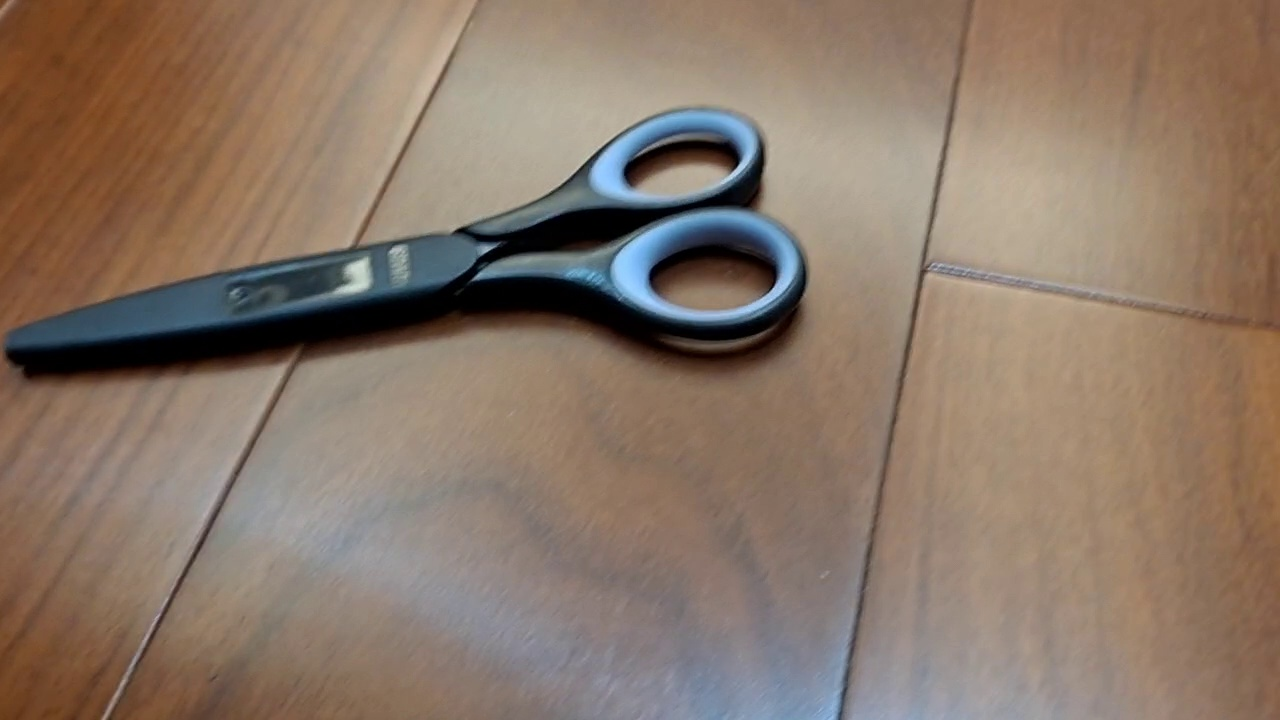scissors: (2, 103, 811, 379)
